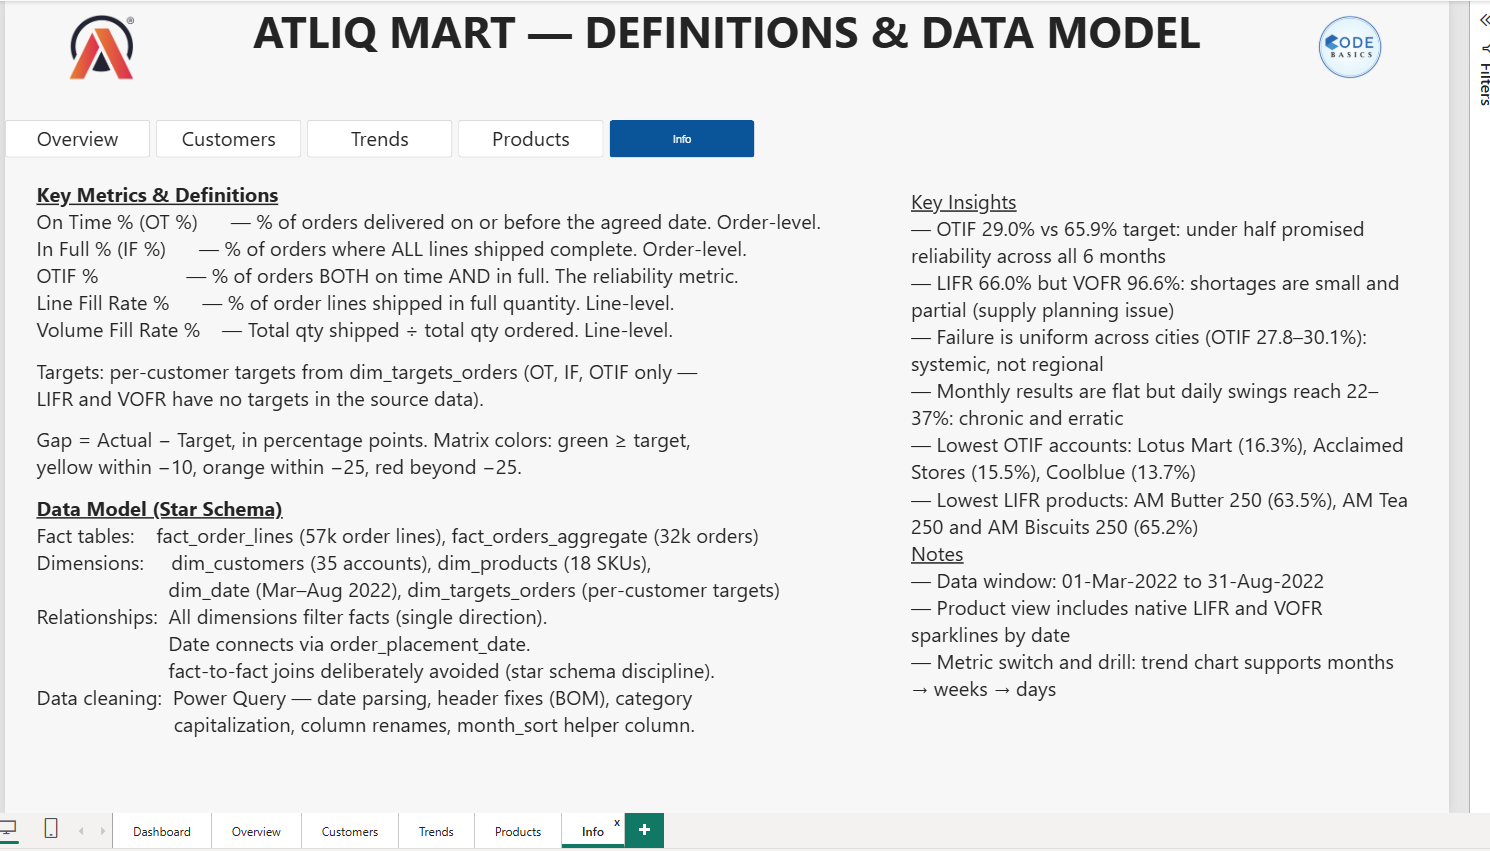

What the dashboard file says about the page in this screenshot:
{"tool":"powerbi","page":{"name":"Info","canvas":[1920,1080],"ordinal":5},"visuals":[{"type":"textbox","box":[0,0,1920,122.9],"z":0},{"type":"textbox","box":[0,676.6,936.4,333.8],"z":1000},{"type":"textbox","box":[0,219.9,1172.2,852.6],"z":2000},{"type":"textbox","box":[1204.5,247.1,668.9,784],"z":3000},{"type":"image","box":[0,16.9,259.7,87],"z":4000},{"type":"image","box":[1658.4,16.9,261,88.3],"z":5000},{"type":"textbox","box":[1025,676,874,294],"z":6000},{"type":"pageNavigator","box":[0,158.6,1000,50],"z":8000}]}

Visuals, with their boxes on the page's 1920x1080 design canvas (x1, y1, x2, y2). These are canvas units, not pixel positions in the 1490x851 screenshot, which may show the page scaled, cropped or inside an application window:
textbox: (x1=0, y1=0, x2=1920, y2=123)
textbox: (x1=0, y1=677, x2=936, y2=1010)
textbox: (x1=0, y1=220, x2=1172, y2=1072)
textbox: (x1=1204, y1=247, x2=1873, y2=1031)
image: (x1=0, y1=17, x2=260, y2=104)
image: (x1=1658, y1=17, x2=1919, y2=105)
textbox: (x1=1025, y1=676, x2=1899, y2=970)
pageNavigator: (x1=0, y1=159, x2=1000, y2=209)
